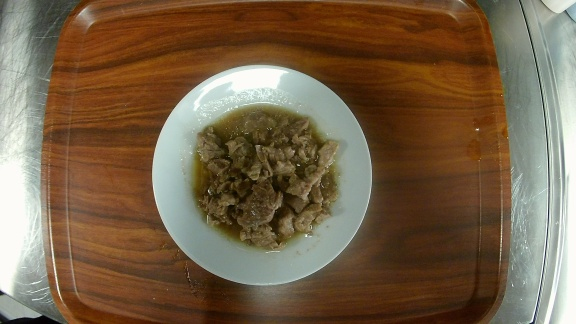etsote: (150, 63, 374, 286)
